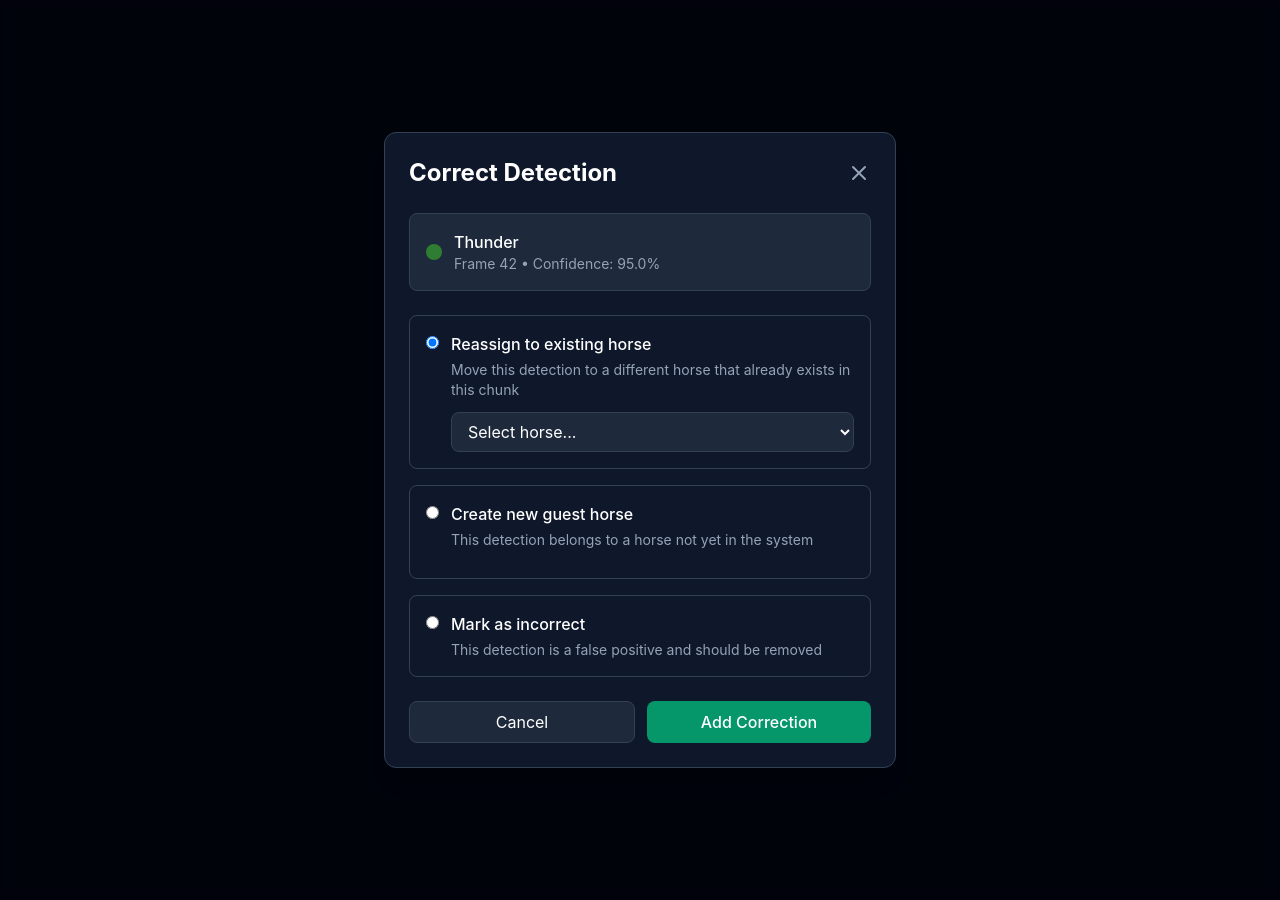
DetectionCorrectionModal › shows name input when new guest is selected
Step 1. Click the radio button labelled "Create new guest horse" → (432, 512), box left=426, top=506, right=439, bottom=519
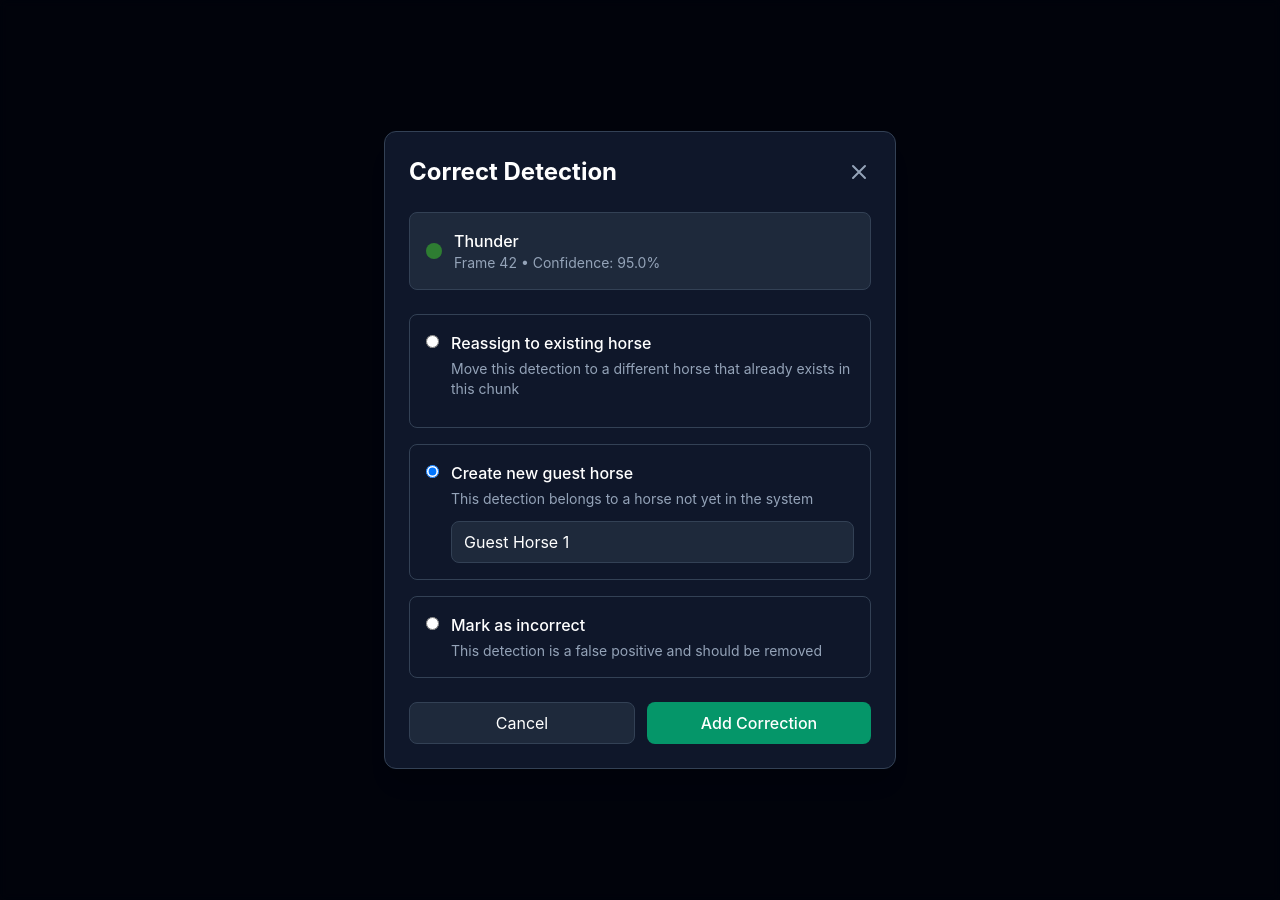
Check: the field with placeholder "Enter horse name..." holds "Guest Horse 1", box left=451, top=521, right=854, bottom=563
